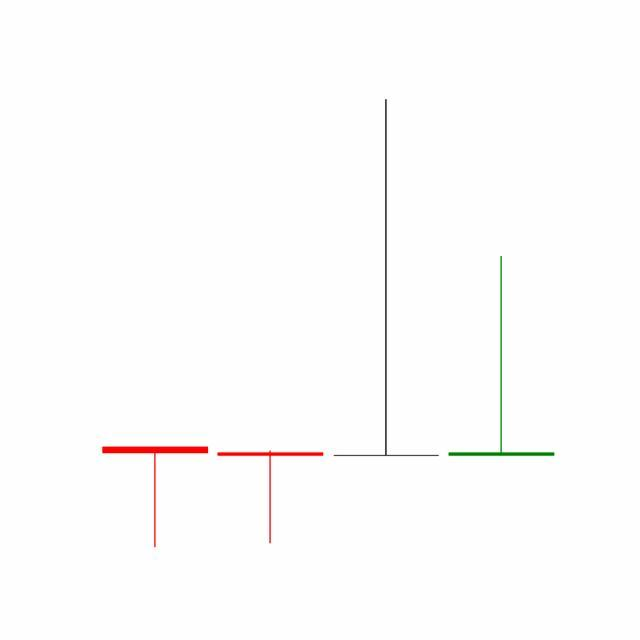Gravestone Doji: (329, 95, 445, 459)
